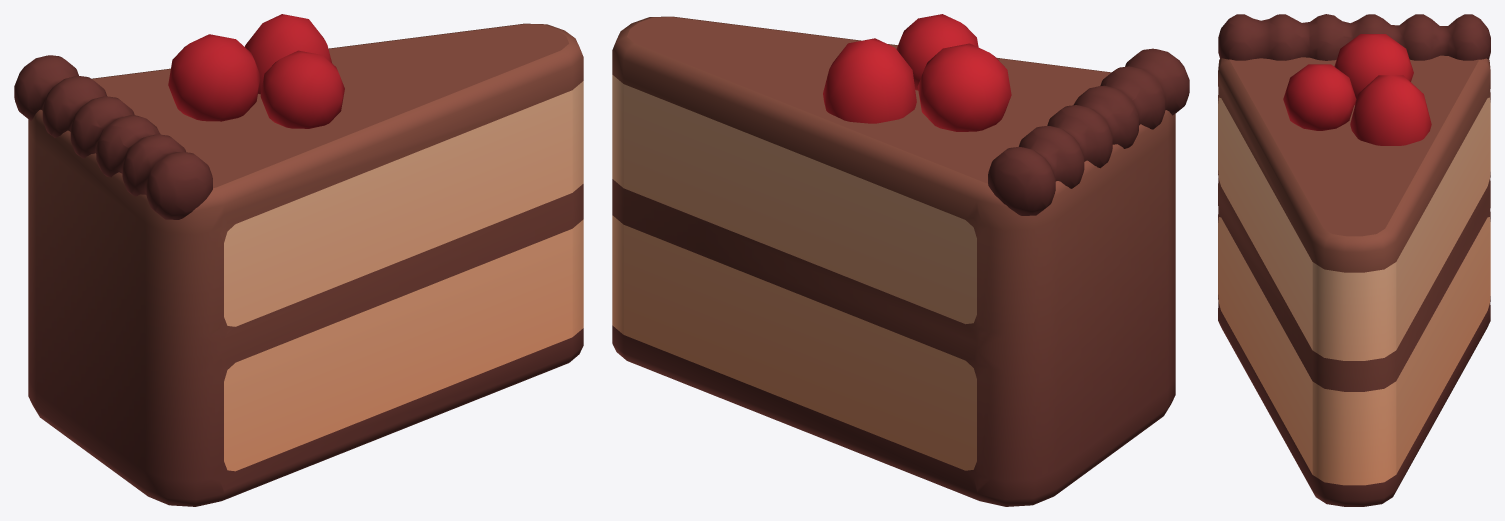
The model's file is Cake Slice.fbx.
The picture shows the model from 3 angles, left to right: view 1: azimuth 30°, elevation 25°; view 2: azimuth 150°, elevation 25°; view 3: azimuth 270°, elevation 25°; orthographic projection. The views are drawn at different scales.
Visible parts, largest first — view 1: Cake Slice; view 2: Cake Slice; view 3: Cake Slice.
Boxes of the visible parts, box(x1,y1,x2,y2) form: Cake Slice: box(14, 14, 583, 506); Cake Slice: box(612, 14, 1189, 506); Cake Slice: box(1218, 14, 1490, 506).
Size of the model in its own units: 15.84 by 11.81 by 8.87.
